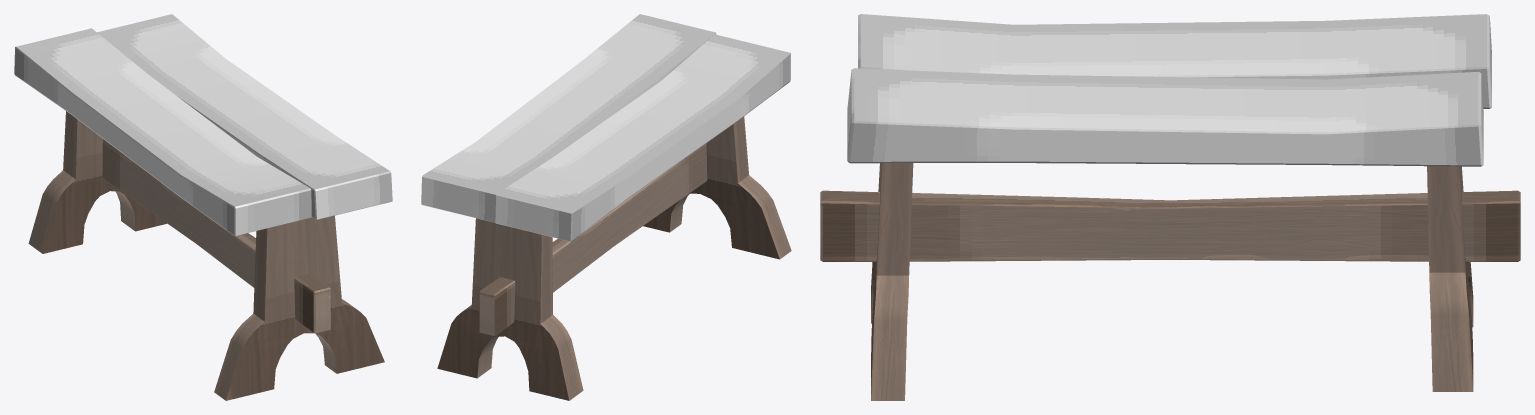
Rendered from SM_LargeStool.fbx.
The picture shows the model from 3 angles, left to right: view 1: azimuth 30°, elevation 25°; view 2: azimuth 150°, elevation 25°; view 3: azimuth 270°, elevation 25°; orthographic projection. The views are drawn at different scales.
Parts seen in each view (by area): view 1: SM_LargeStool_LOD0; view 2: SM_LargeStool_LOD0; view 3: SM_LargeStool_LOD0.
Boxes of the visible parts, <box> form: SM_LargeStool_LOD0: <box>14,14,392,400</box>; SM_LargeStool_LOD0: <box>421,14,791,400</box>; SM_LargeStool_LOD0: <box>820,14,1520,400</box>.
Bounding box in the file's own units: 38.79 × 103 × 45.57.
